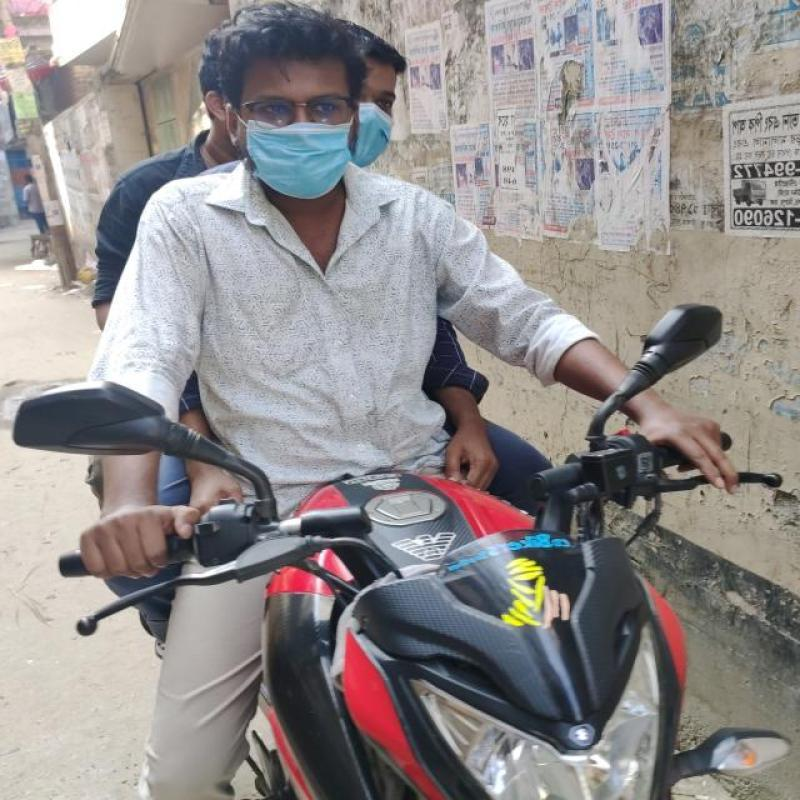nohelmet: (196, 18, 416, 203)
